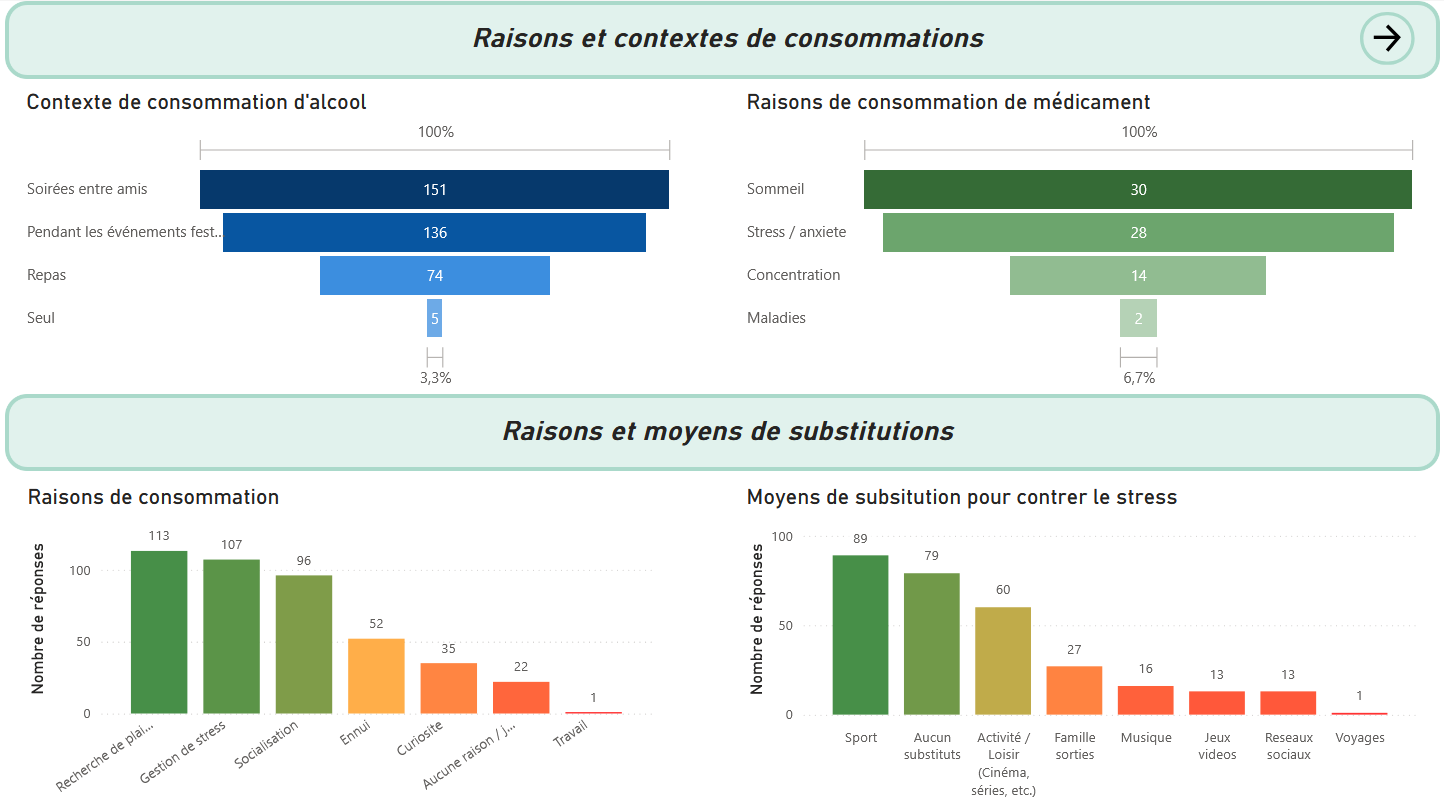

This screenshot's page, from the dashboard's own definition file:
{"tool":"powerbi","page":{"name":"Raisons & Subsituts","canvas":[1280,720],"ordinal":3},"visuals":[{"type":"funnel","title":"Contexte de consommation d''alcool","fields":{"Category":["FACT_CONSOMMATION.consommation flag","DIM_CONTEXTE_ALCOOL.contexte alcool libelle"],"Y":["CountNonNull(DIM_CONSOMMATION.id repondant)"]},"box":[14.6,78.8,588.4,272.3],"z":0},{"type":"funnel","title":"Raisons de consommation de médicament","fields":{"Category":["DIM_RAISON_MEDICAMENTS.raison medicaments libelle"],"Y":["CountNonNull(FACT_CONSOMMATION.id repondant)"]},"box":[656.5,78.8,608.9,272.3],"z":1000},{"type":"textbox","title":"Raisons et contextes de consommations","box":[0,0,1280,70],"z":2000},{"type":"textbox","title":"Raisons et moyens de substitutions","box":[0,351,1280,69],"z":3000},{"type":"lineStackedColumnComboChart","title":"Moyens de subsitution pour contrer le stress","fields":{"Category":["DIM_SUBSTITUTS.libelle substitut"],"Y":["CountNonNull(FACT_REPONDANT.id repondant)"]},"box":[657,431,608,289],"z":4000},{"type":"clusteredColumnChart","title":"Raisons de consommation","fields":{"Category":["DIM_RAISON_CONSO_ADDICTION.libelle raison addiction 2"],"Y":["CountNonNull(FACT_REPONDANT.id repondant)"]},"box":[15,431,567,289],"z":5000},{"type":"actionButton","box":[1208.5,9.8,48.8,47.2],"z":6000}]}

Visuals, with their boxes in screenshot pixels (x1, y1, x2, y2), scaled from the page's 1280x720 canvas onto the 1444x800 screenshot:
"Contexte de consommation d''alcool" funnel: 16/88/680/390
"Raisons de consommation de médicament" funnel: 741/88/1428/390
"Raisons et contextes de consommations" textbox: 0/0/1443/78
"Raisons et moyens de substitutions" textbox: 0/390/1443/467
"Moyens de subsitution pour contrer le stress" lineStackedColumnComboChart: 741/479/1427/799
"Raisons de consommation" clusteredColumnChart: 17/479/657/799
actionButton: 1363/11/1418/63
